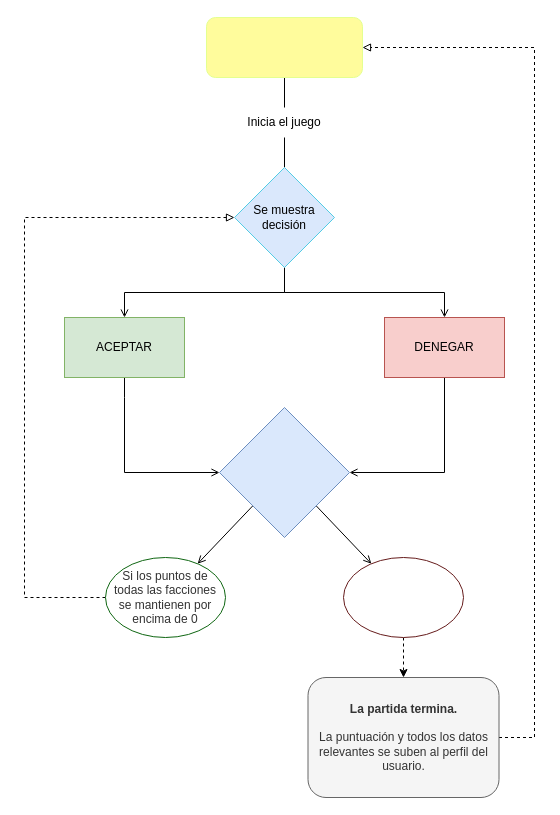
Image size: 560x815. Some labels were removed from this diagram. The box of each missing label's shape, as (x1, y1, x2, y2) in pixels:
Se suman / restan los puntos de las facciones: (218, 406, 350, 538)
SI los puntos de alguna de las facciones llega a 0: (342, 556, 464, 638)
The Original Kingdom: (206, 16, 362, 78)
